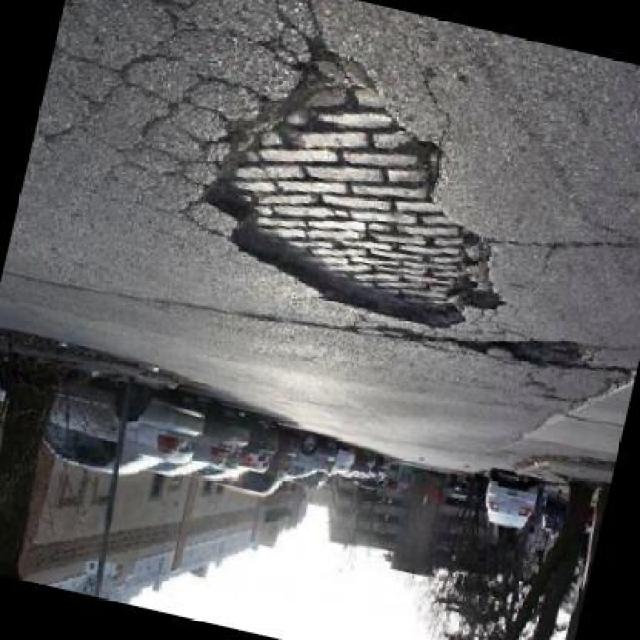pothole: (171, 19, 547, 348), (493, 322, 596, 382)
